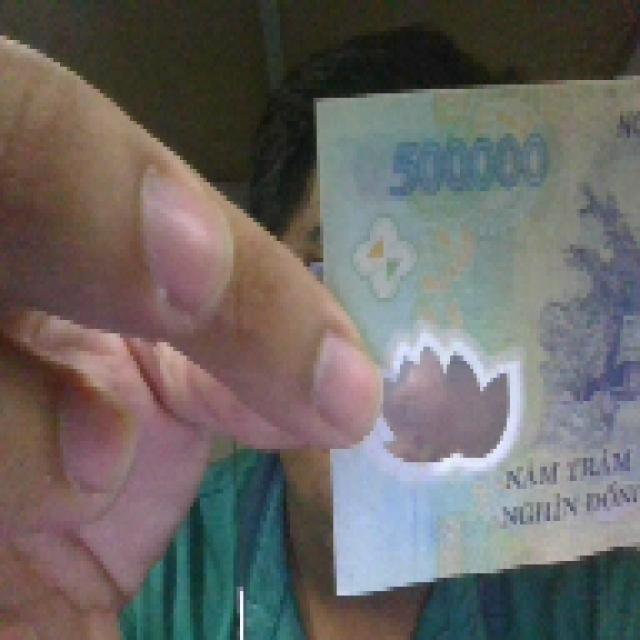500 000 VND: (306, 67, 636, 600)
